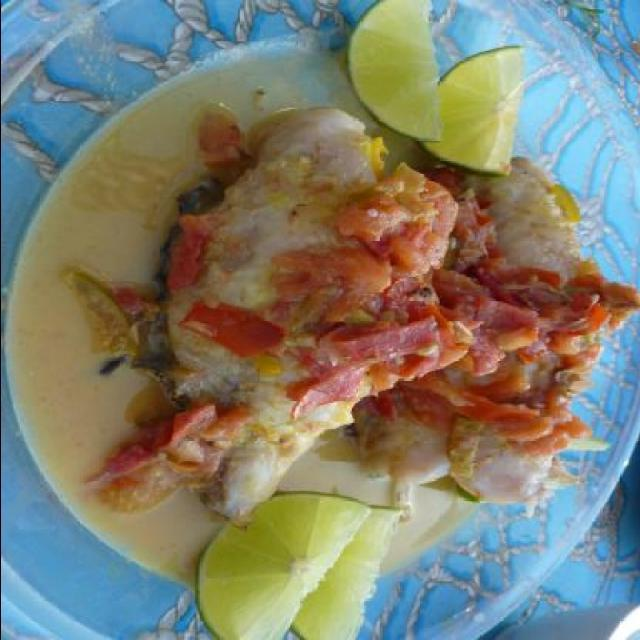Lemon: (198, 491, 370, 640), (414, 44, 522, 180), (291, 506, 397, 640), (342, 1, 434, 142)
